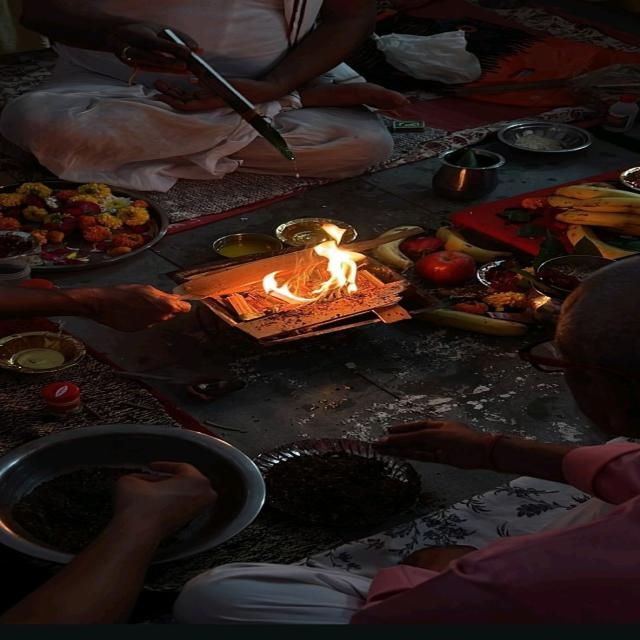fire: (314, 222, 366, 294), (263, 269, 318, 302)
